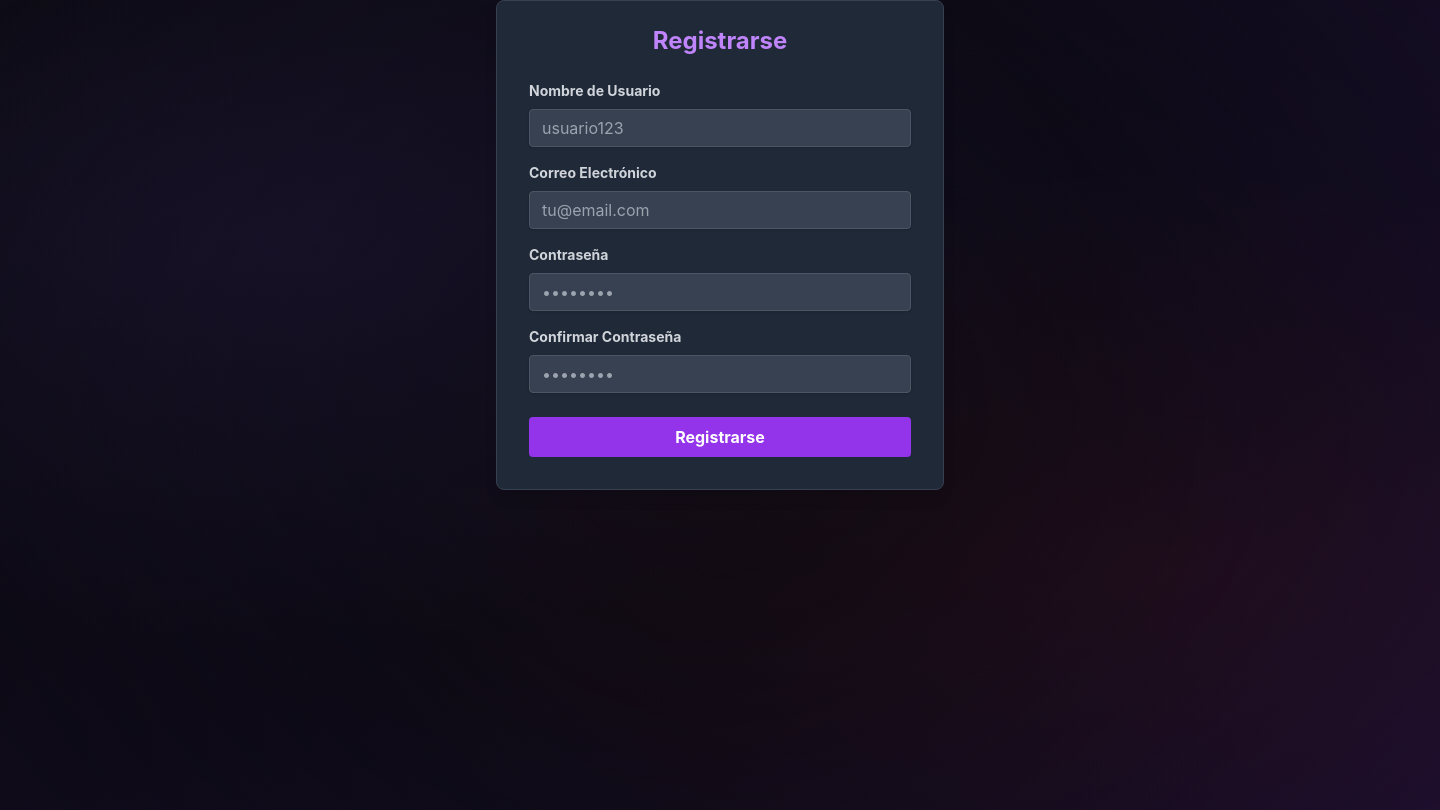
Test case: RegisterForm › validates username length
Note: Enter too short username
Type "ab" into the field labelled "Nombre de Usuario".
click(720, 128); type("ab")  # box [529,109,911,147]
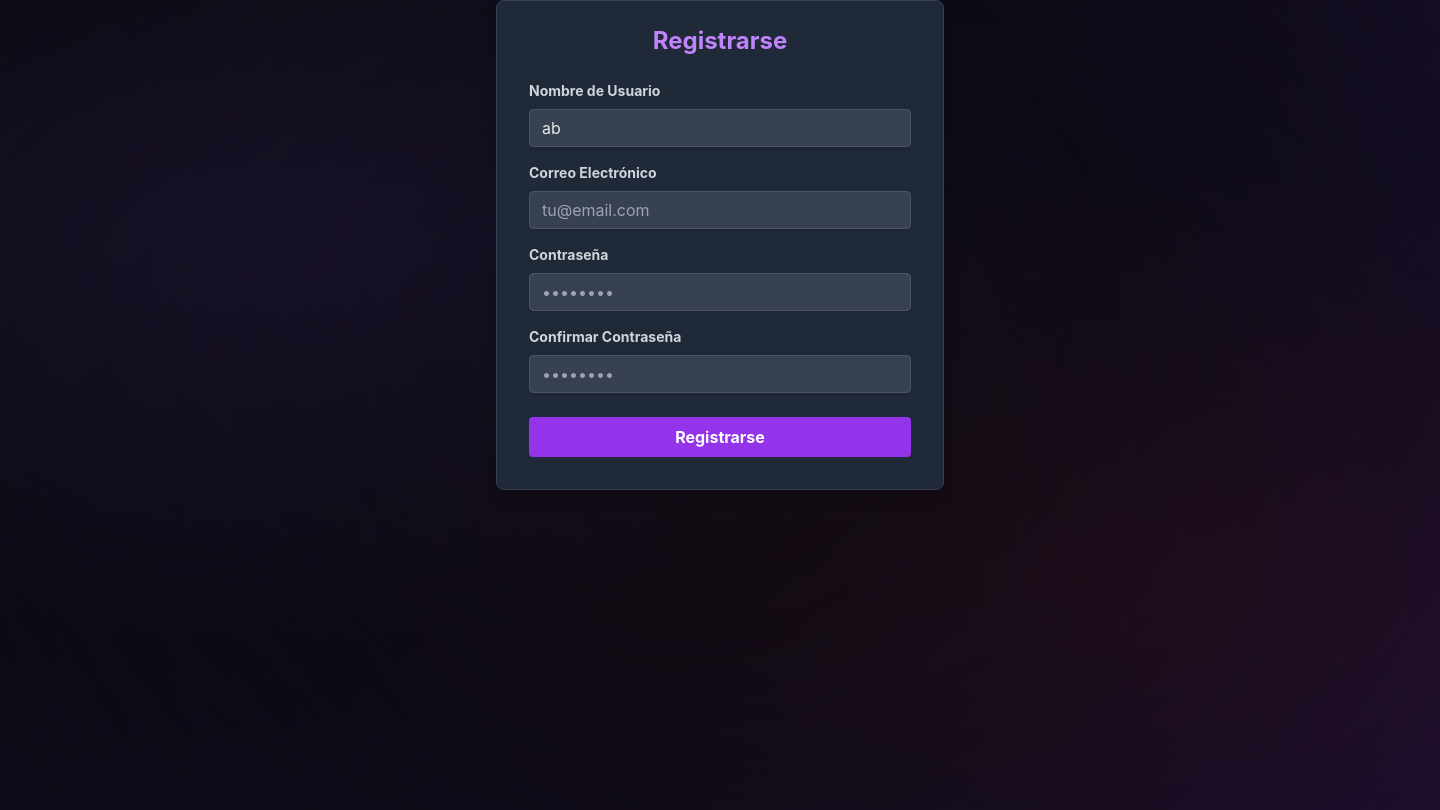
Click the button "Registrarse".
click(720, 437)  # box [529,417,911,457]
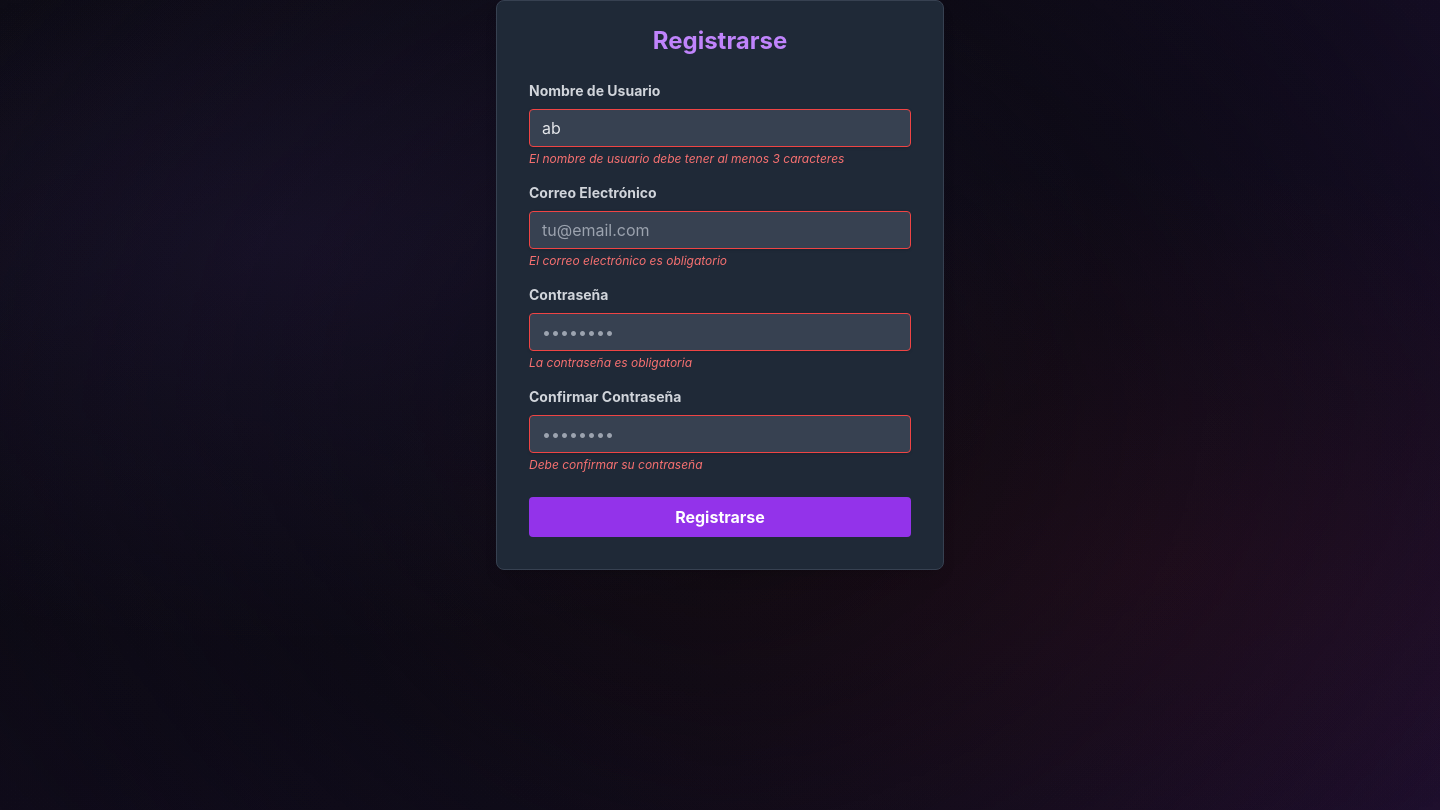
Check: the text "El nombre de usuario debe tener al menos 3 caracteres" is shown, box [529,151,844,166]
